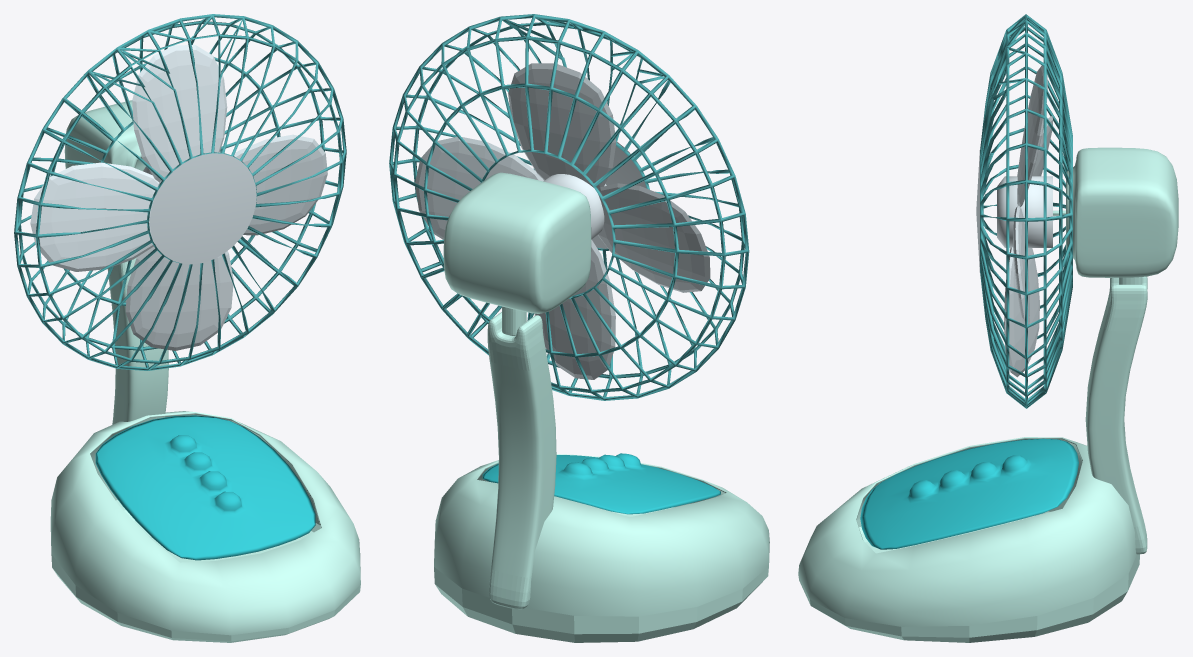
File: kipas.fbx
3 views of the same model, side by side, from view 1: azimuth 30°, elevation 25°; view 2: azimuth 150°, elevation 25°; view 3: azimuth 270°, elevation 25° (orthographic). The views are drawn at different scales.
Parts seen in each view (by area): view 1: Cube, Sphere, Cube.001, Plane.001, Sphere.002, Plane.003, Plane.002, Plane, Cube.002, Cube.003; view 2: Cube, Sphere, Cube.003, Cube.002, Plane.003, Cube.001, Plane.001, Plane.002, Plane, Cylinder, Sphere.002; view 3: Cube, Sphere, Cube.001, Cube.003, Cube.002, Cylinder, Plane.002, Plane.003, Plane.
Part boxes in pixels (<box>): Cube: <box>50,411,360,642</box>; Sphere: <box>14,14,346,370</box>; Cube.001: <box>95,415,315,560</box>; Plane.001: <box>30,162,158,271</box>; Sphere.002: <box>149,153,256,264</box>; Plane.003: <box>132,45,227,182</box>; Plane.002: <box>125,246,233,350</box>; Plane: <box>234,134,327,235</box>; Cube.002: <box>107,257,168,435</box>; Cube.003: <box>64,100,145,171</box>; Cube: <box>434,454,769,642</box>; Sphere: <box>389,14,749,400</box>; Cube.003: <box>443,172,591,313</box>; Cube.002: <box>487,306,556,609</box>; Plane.003: <box>508,63,616,188</box>; Cube.001: <box>482,453,720,514</box>; Plane.001: <box>598,183,710,292</box>; Plane.002: <box>534,239,615,379</box>; Plane: <box>415,137,543,239</box>; Cylinder: <box>543,174,606,239</box>; Sphere.002: <box>543,142,646,248</box>; Cube: <box>798,437,1139,642</box>; Sphere: <box>980,14,1072,408</box>; Cube.001: <box>860,438,1078,549</box>; Cube.003: <box>1053,147,1178,277</box>; Cube.002: <box>1085,276,1147,554</box>; Cylinder: <box>997,176,1052,247</box>; Plane.002: <box>1004,247,1039,377</box>; Plane.003: <box>1017,65,1047,206</box>; Plane: <box>1013,205,1029,324</box>.
Size of the model in its own units: 212 by 329 by 204.
